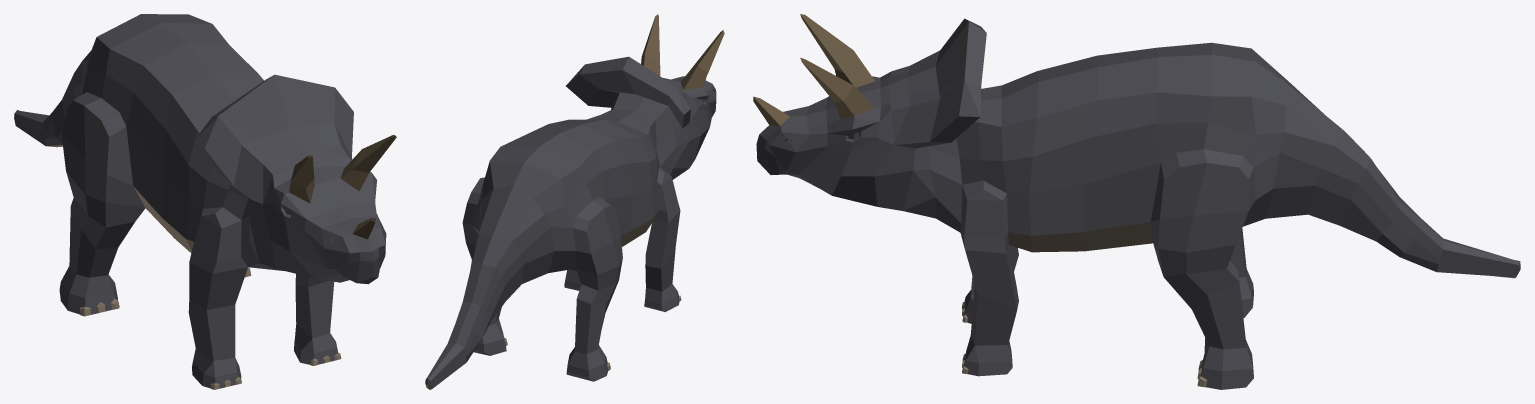
File: Triceratops.glb
3 renders of one model, left to right at view 1: azimuth 30°, elevation 25°; view 2: azimuth 150°, elevation 25°; view 3: azimuth 270°, elevation 25°, orthographic. The views are drawn at different scales.
Visible parts, largest first — view 1: Triceratops; view 2: Triceratops; view 3: Triceratops.
Part boxes in pixels (<box>): Triceratops: <box>14,14,396,389</box>; Triceratops: <box>425,14,724,389</box>; Triceratops: <box>753,14,1520,389</box>.
Size of the model in its own units: 5.84 by 9.43 by 20.34.
